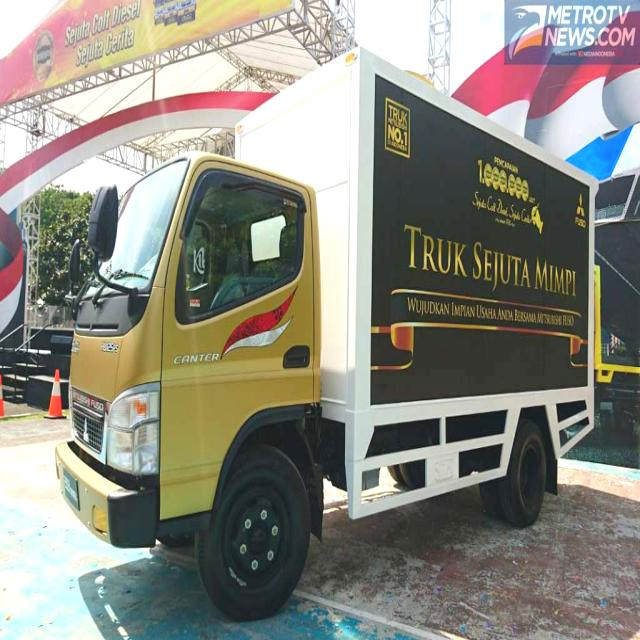truck: (54, 44, 596, 613)
